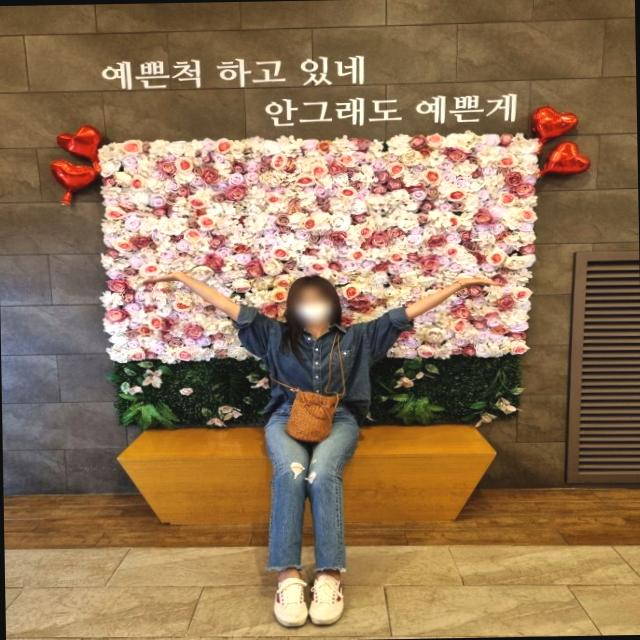denimpants: (261, 392, 362, 572)
shirt: (228, 295, 414, 424)
